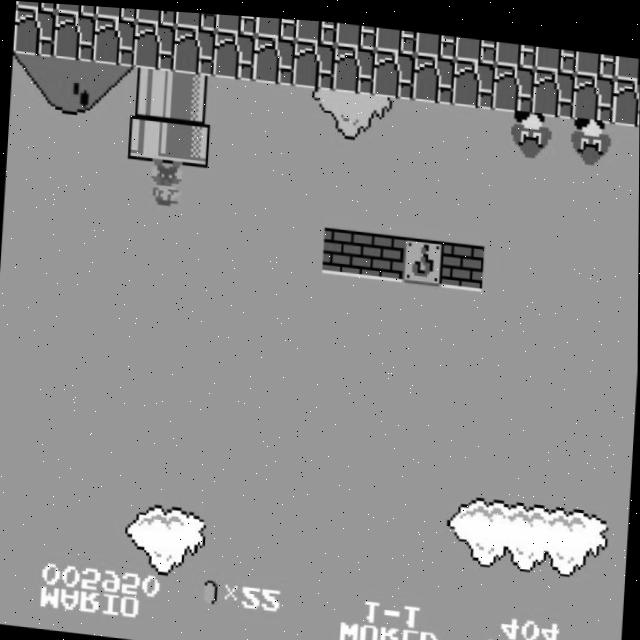1- brick_block: (441, 235, 485, 285), (322, 222, 365, 273), (362, 227, 405, 277)
11- little_mario: (142, 156, 188, 208)
13- mystery_block: (401, 231, 445, 281)
14- pipe: (130, 65, 173, 116), (170, 69, 213, 120)
15- pipe_head: (128, 111, 171, 161), (168, 115, 211, 165)
17- undestructible_block: (53, 11, 96, 62), (93, 15, 136, 66), (133, 19, 176, 70), (293, 36, 336, 87), (333, 40, 376, 91), (492, 57, 535, 108), (532, 61, 575, 112), (173, 24, 216, 74), (213, 28, 256, 78), (253, 32, 296, 82), (373, 45, 416, 95), (412, 49, 455, 99), (452, 53, 495, 103), (572, 66, 615, 116), (14, 7, 56, 57), (611, 70, 640, 120), (455, 30, 497, 58), (335, 18, 377, 45), (375, 22, 417, 49), (415, 26, 457, 53), (495, 35, 537, 62), (535, 39, 577, 66), (575, 43, 617, 70), (295, 15, 337, 41), (255, 13, 297, 37), (215, 11, 257, 32), (175, 9, 217, 28), (135, 7, 177, 24), (614, 48, 640, 74), (95, 5, 137, 20), (55, 3, 97, 16), (16, 1, 57, 11)
8- goomba: (566, 108, 613, 162), (507, 102, 553, 155)
